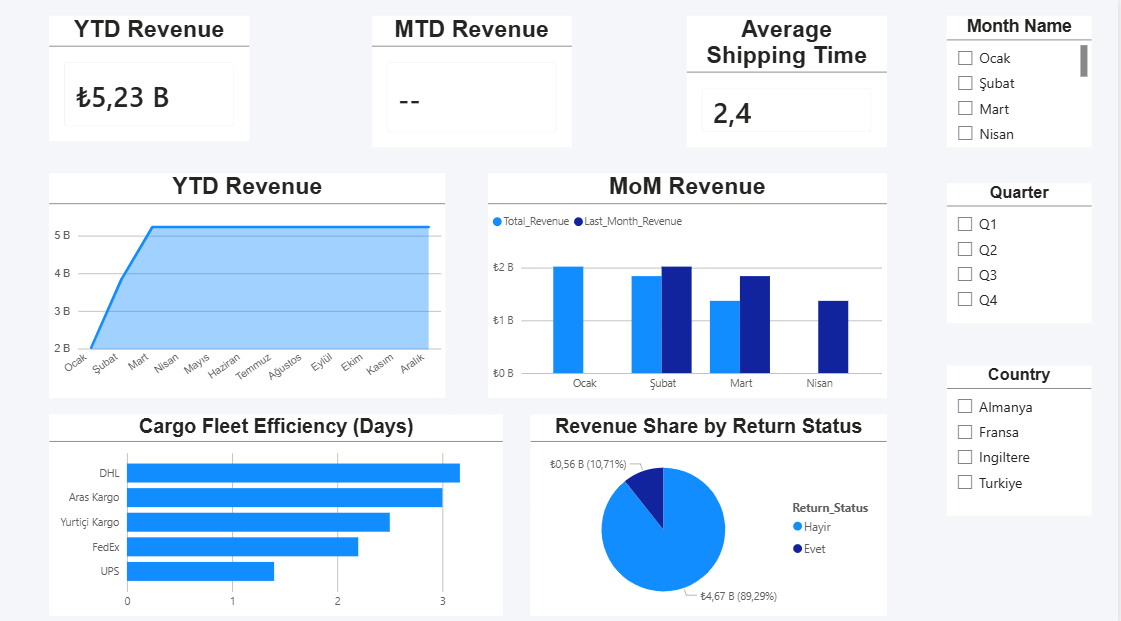

The dashboard page shown, as its layout file describes it:
{"tool":"powerbi","page":{"name":"Operational Insights","canvas":[1280,720],"ordinal":1},"visuals":[{"type":"cardVisual","title":"YTD Revenue","fields":{"Data":["Fact_Sales.YTD_Revenue"]},"box":[58.6,21.4,228.6,142.9],"z":0},{"type":"cardVisual","title":"MTD Revenue","fields":{"Data":["Fact_Sales.MTD_Revenue"]},"box":[427.1,21.4,228.6,150],"z":1},{"type":"slicer","title":"Month Name","fields":{"Values":["Dim_Calendar.Month_Name"]},"box":[1084.3,21.4,165.7,150],"z":2},{"type":"cardVisual","title":"Average Shipping Time ","fields":{"Data":["Fact_Sales.Avg_Shipping_Time"]},"box":[787.1,21.4,228.6,150],"z":3},{"type":"areaChart","title":"YTD Revenue","fields":{"Category":["Dim_Calendar.Month_Name"],"Y":["Fact_Sales.YTD_Revenue"]},"box":[58.6,201.4,452.9,257.1],"z":4},{"type":"clusteredColumnChart","title":"MoM Revenue","fields":{"Category":["Dim_Calendar.Month_Name"],"Y":["Fact_Sales.Total_Revenue","Fact_Sales.Last_Month_Revenue"]},"box":[560,201.4,455.7,257.1],"z":5},{"type":"clusteredBarChart","title":"Cargo Fleet Efficiency (Days)","fields":{"Category":["Fact_Sales.Cargo_Company"],"Y":["Fact_Sales.Avg_Shipping_Time"]},"box":[58.6,477.1,518.6,230],"z":6},{"type":"pieChart","title":"Revenue Share by Return Status","fields":{"Y":["Fact_Sales.Total_Revenue"],"Category":["Fact_Sales.Return_Status"]},"box":[608.6,477.1,407.1,230],"z":7},{"type":"slicer","title":"Quarter","fields":{"Values":["Dim_Calendar.Quarter"]},"box":[1084.3,212.9,165.7,160],"z":8},{"type":"slicer","title":"Country","fields":{"Values":["Dim_Customers.Country"]},"box":[1084.3,421.4,165.7,171.4],"z":9}]}

Visuals, with their boxes in screenshot pixels (x1, y1, x2, y2), scaled from the page's 1280x720 canvas onto the 1121x621 screenshot:
"YTD Revenue" cardVisual: left=51, top=18, right=252, bottom=142
"MTD Revenue" cardVisual: left=374, top=18, right=574, bottom=148
"Month Name" slicer: left=950, top=18, right=1095, bottom=148
"Average Shipping Time " cardVisual: left=689, top=18, right=890, bottom=148
"YTD Revenue" areaChart: left=51, top=174, right=448, bottom=395
"MoM Revenue" clusteredColumnChart: left=490, top=174, right=890, bottom=395
"Cargo Fleet Efficiency (Days)" clusteredBarChart: left=51, top=411, right=506, bottom=610
"Revenue Share by Return Status" pieChart: left=533, top=411, right=890, bottom=610
"Quarter" slicer: left=950, top=184, right=1095, bottom=322
"Country" slicer: left=950, top=363, right=1095, bottom=511
